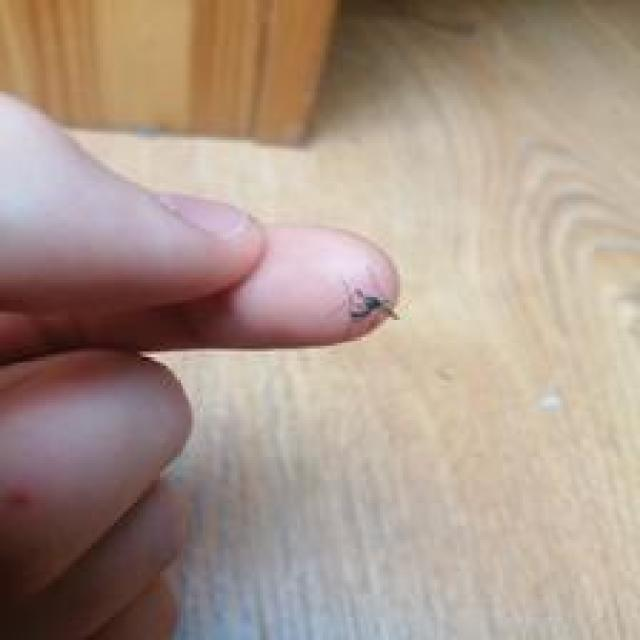Aedes albopictus: (346, 286, 400, 323)
